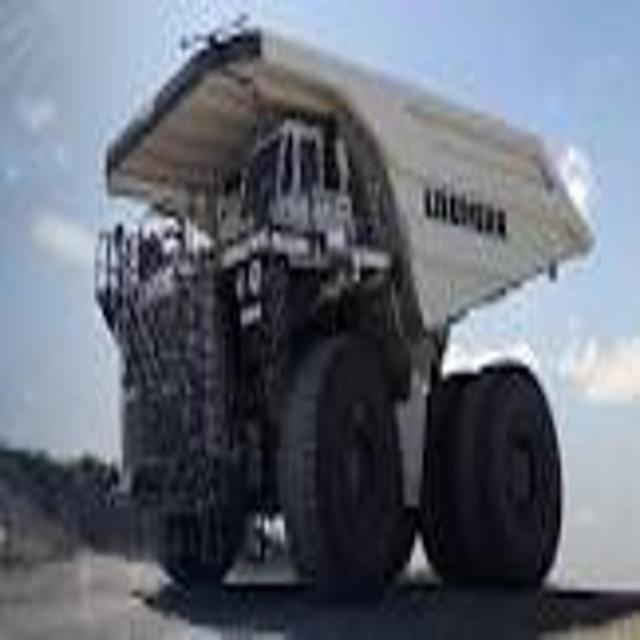dump_truck: (97, 27, 598, 605)
